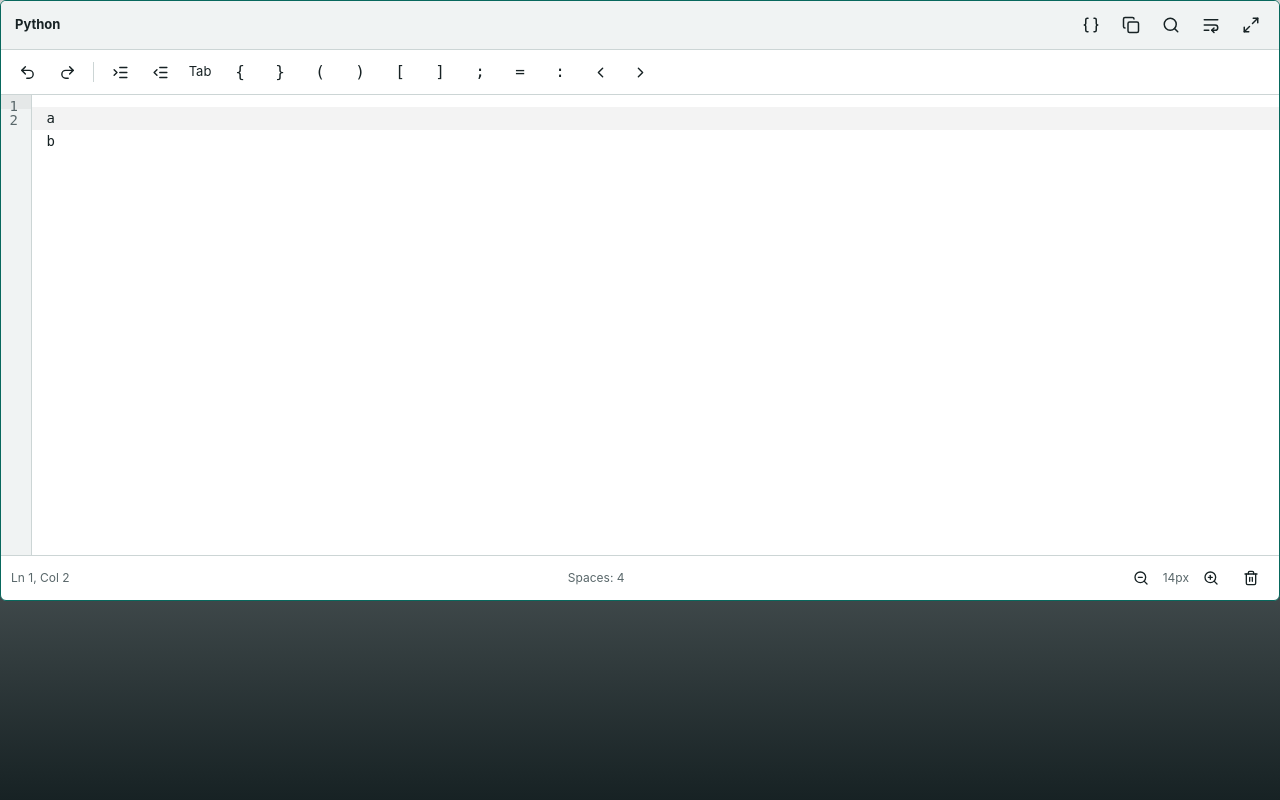
Test: touch tools insert at the caret, indent selections, undo, search and expand
Earlier steps of the test are not shown.
Later steps or results of the test are not shown.
Click the button named "Insert {".
click(240, 72)  # box x1=222 y1=54 x2=258 y2=90
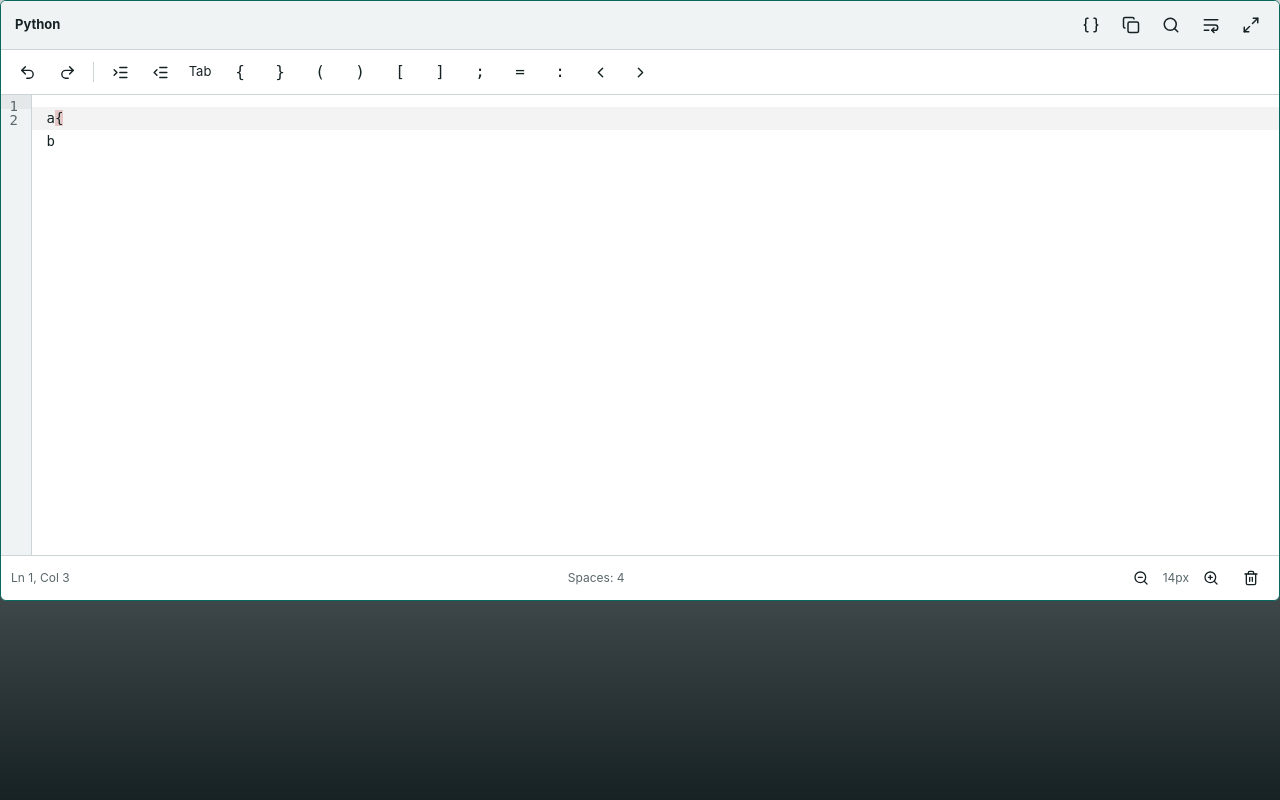
Click the button named "Find and replace".
click(1171, 25)  # box x1=1153 y1=7 x2=1189 y2=43
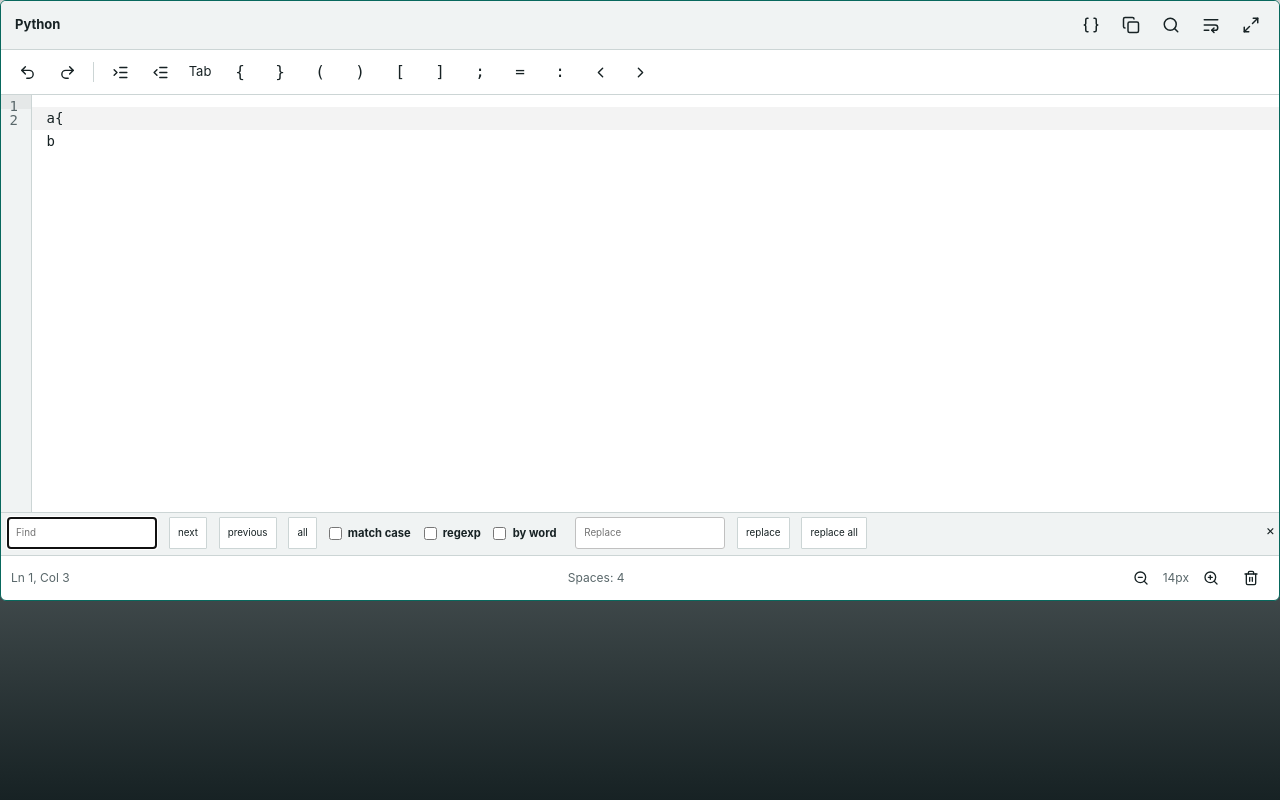
Check: the field labelled "Find" is shown, box x1=7 y1=517 x2=157 y2=549
